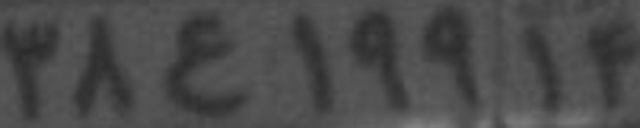1: (289, 15, 339, 113), (519, 24, 560, 108)
3: (2, 13, 61, 118)
4: (584, 23, 637, 109)
8: (72, 16, 136, 117)
9: (422, 8, 483, 105), (350, 12, 409, 108)
ain: (163, 16, 249, 115)
